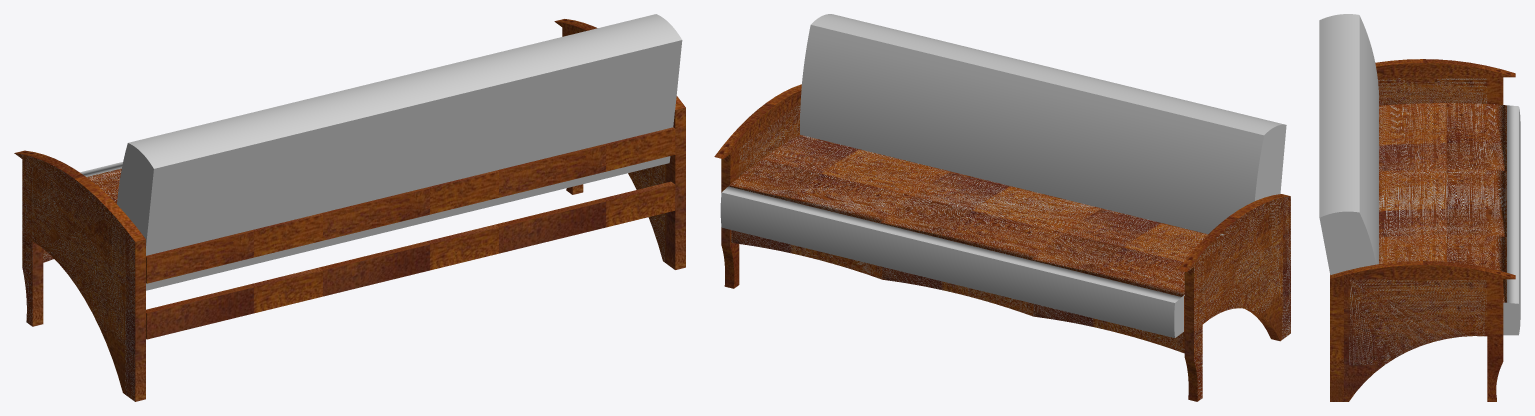
3 views of the same model, side by side, from view 1: azimuth 30°, elevation 25°; view 2: azimuth 150°, elevation 25°; view 3: azimuth 270°, elevation 25° (orthographic). The views are drawn at different scales.
Parts seen in each view (by area): view 1: mesh2_mesh2-geometry, mesh1_mesh1-geometry, mesh3_mesh3-geometry; view 2: mesh1_mesh1-geometry, mesh2_mesh2-geometry, mesh3_mesh3-geometry; view 3: mesh1_mesh1-geometry, mesh2_mesh2-geometry, mesh3_mesh3-geometry.
Boxes of the visible parts, x1,y1,x2,y2 form: mesh2_mesh2-geometry: (117,14,682,290); mesh1_mesh1-geometry: (43,19,685,339); mesh3_mesh3-geometry: (14,150,145,401); mesh1_mesh1-geometry: (714,84,1207,353); mesh2_mesh2-geometry: (800,14,1286,234); mesh3_mesh3-geometry: (1178,194,1290,401); mesh1_mesh1-geometry: (1330,103,1520,401); mesh2_mesh2-geometry: (1319,14,1378,274); mesh3_mesh3-geometry: (1375,59,1515,105).
Size of the model in its own units: 0.8612 by 0.3636 by 0.3552.
